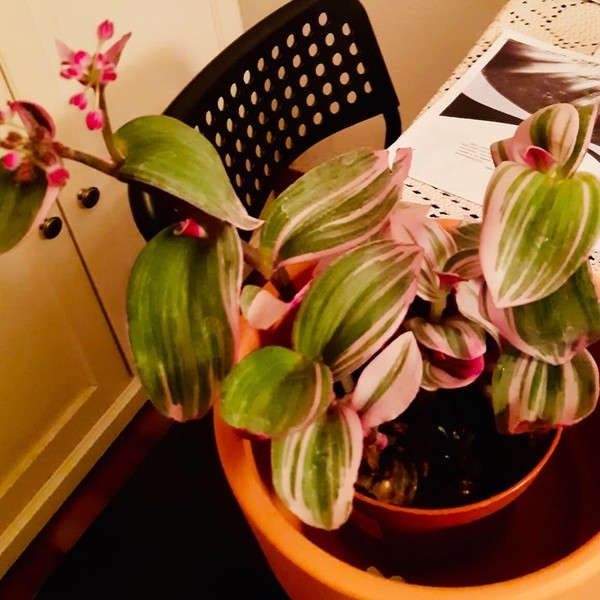obstacle: (10, 83, 571, 521)
